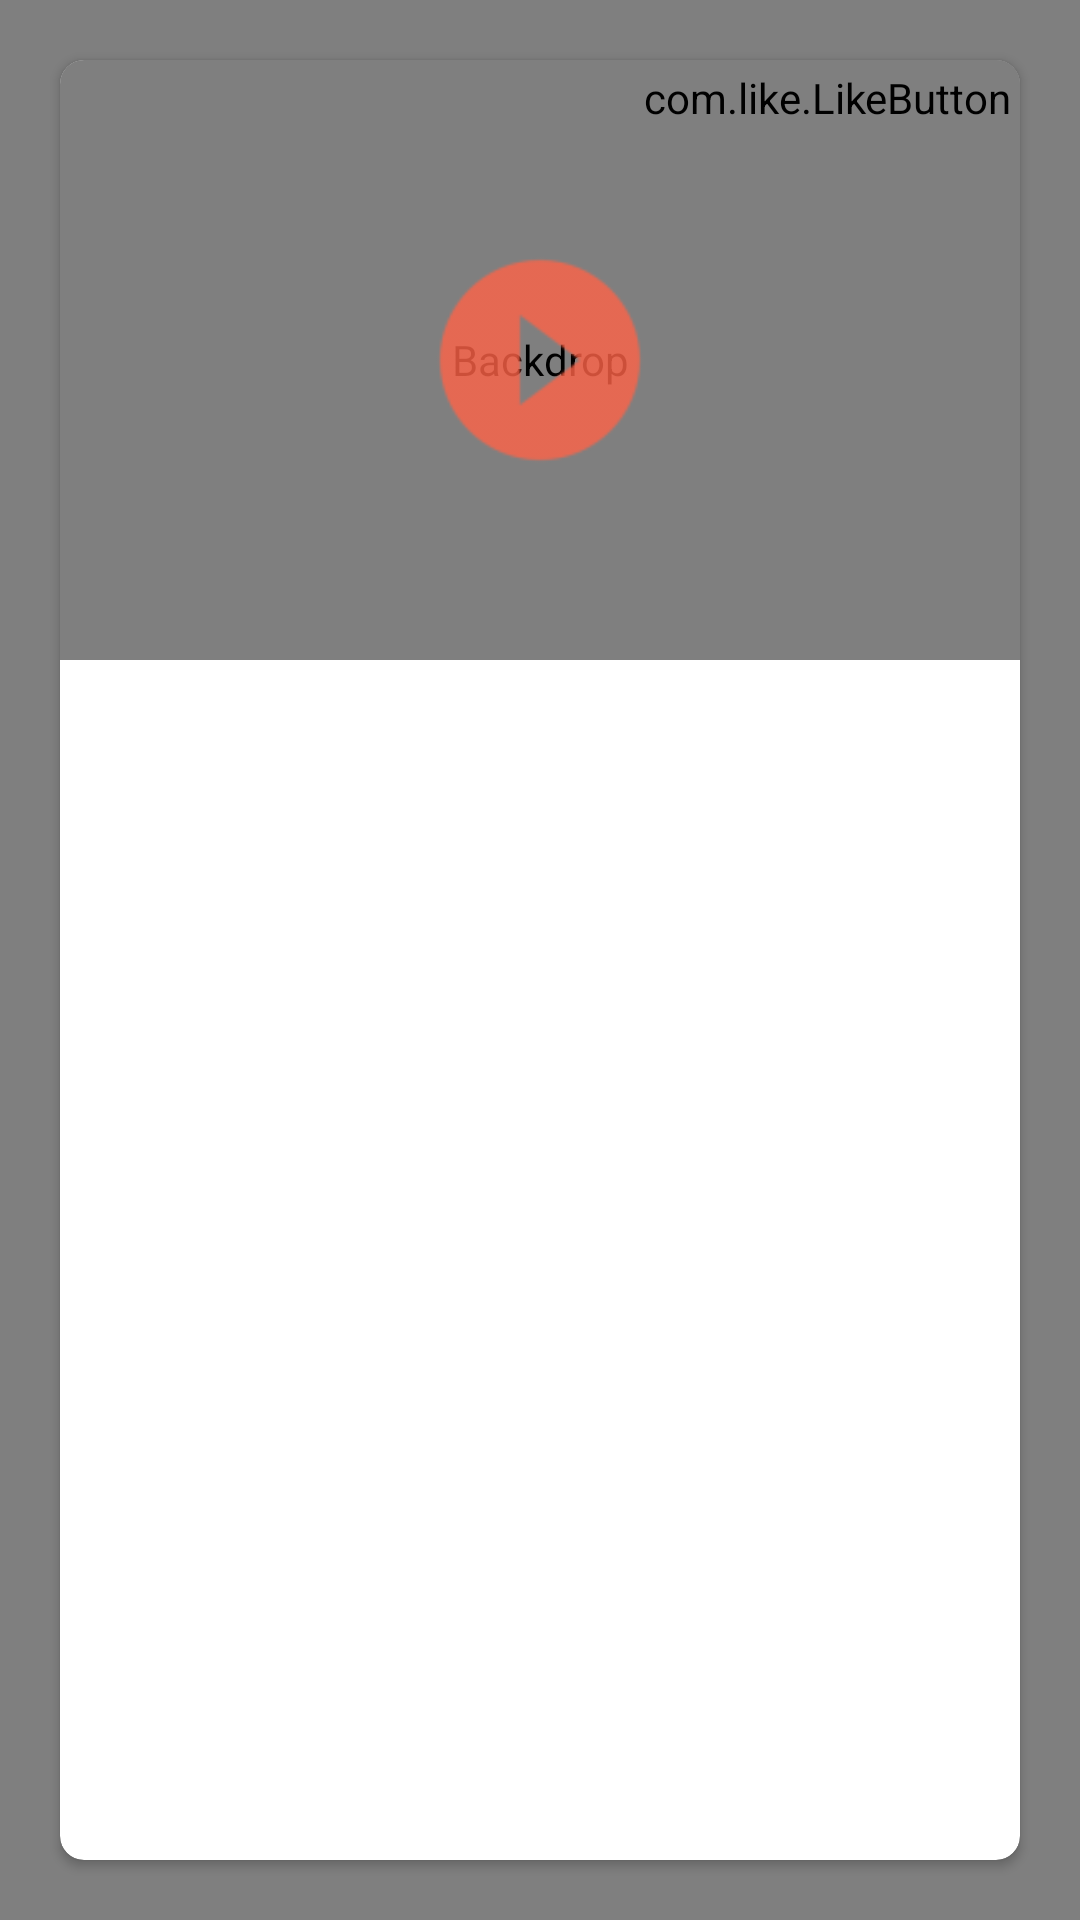

Icons on this 1080×1920 Android screen, each with its box as (x1, y1, x2, y2):
play circle: (439, 259, 641, 461)
